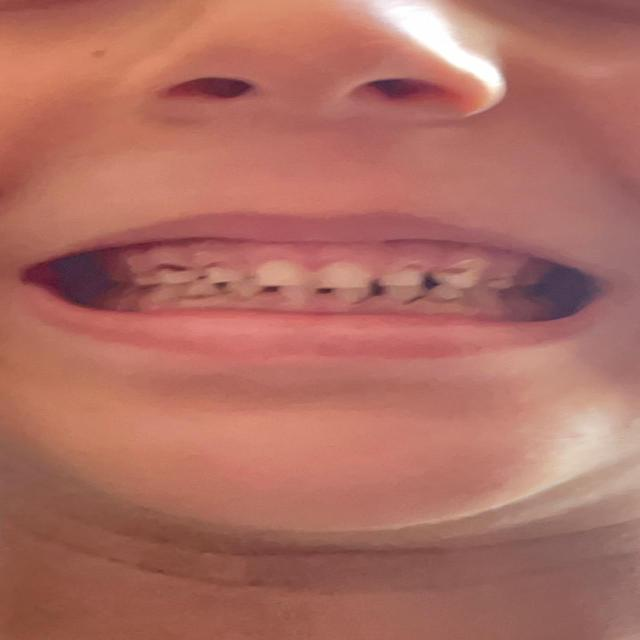tooth: (311, 264, 370, 287), (254, 263, 303, 285), (379, 267, 423, 287), (434, 271, 479, 288), (157, 266, 194, 284), (204, 266, 242, 282), (390, 287, 420, 303), (441, 288, 467, 306), (284, 286, 310, 302), (332, 290, 363, 302), (155, 290, 181, 304), (496, 275, 520, 287), (198, 285, 222, 297), (232, 284, 256, 296)
